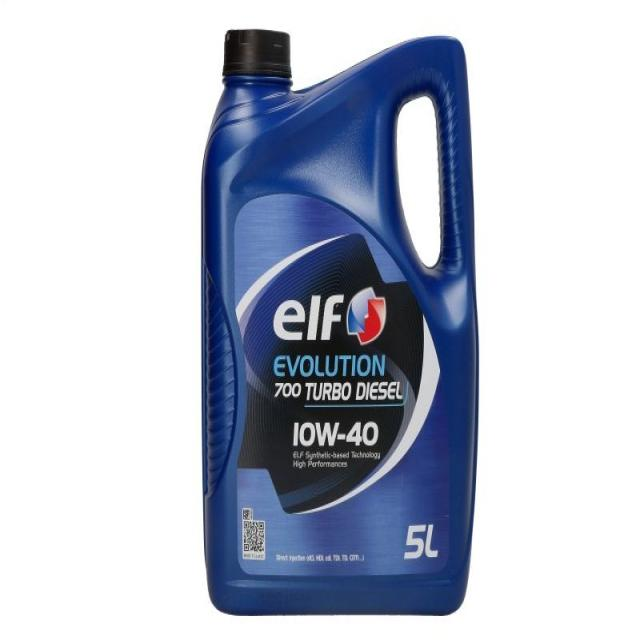motor_oil: (198, 22, 479, 618)
